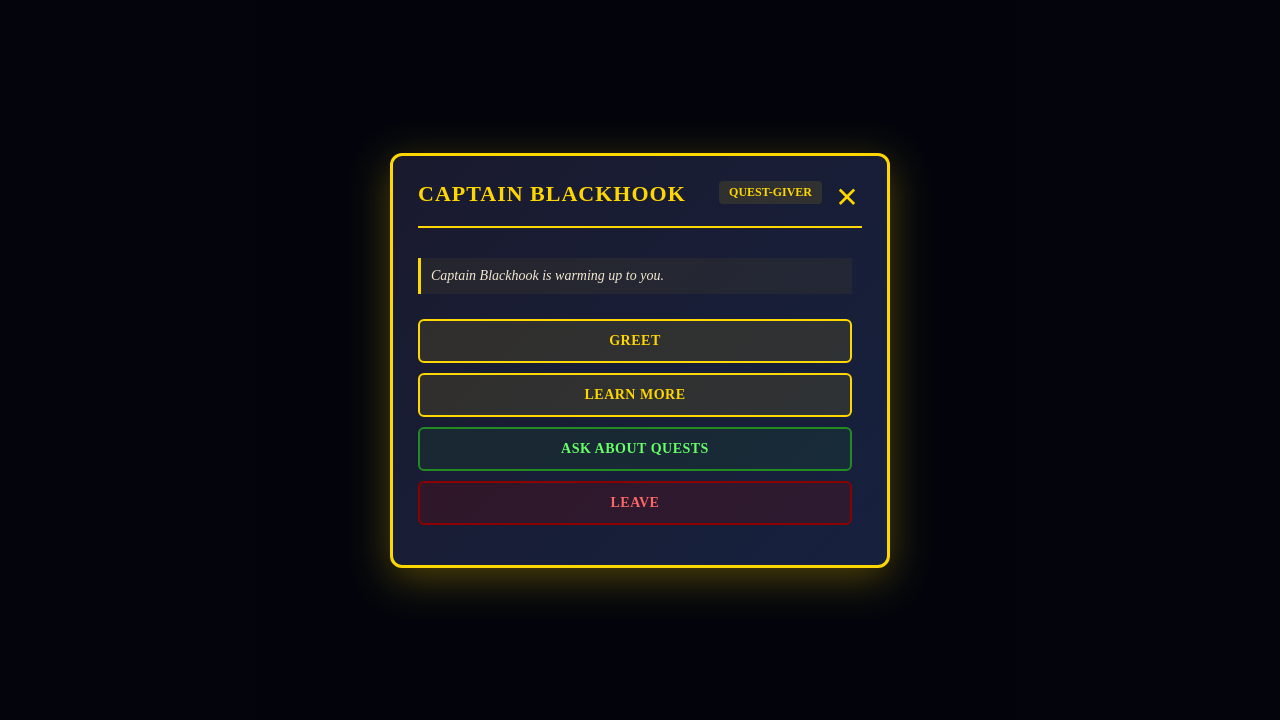
Test: NPC Dialogue Trees › Ask About Quests shows available quests
Click the button "Ask About Quests" at (635, 448), box x1=418 y1=426 x2=852 y2=470
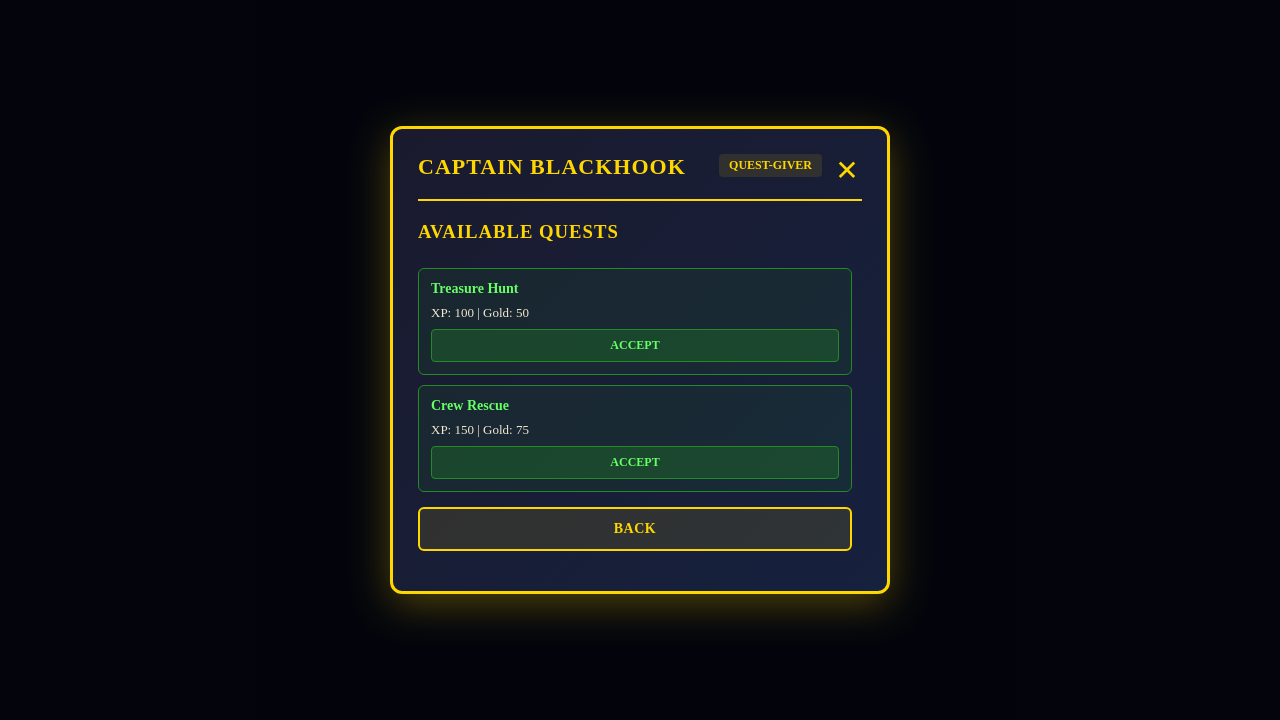
expect the text "Treasure Hunt" is shown: met, box x1=431 y1=281 x2=518 y2=296
expect the text "Crew Rescue" is shown: met, box x1=431 y1=398 x2=509 y2=413
